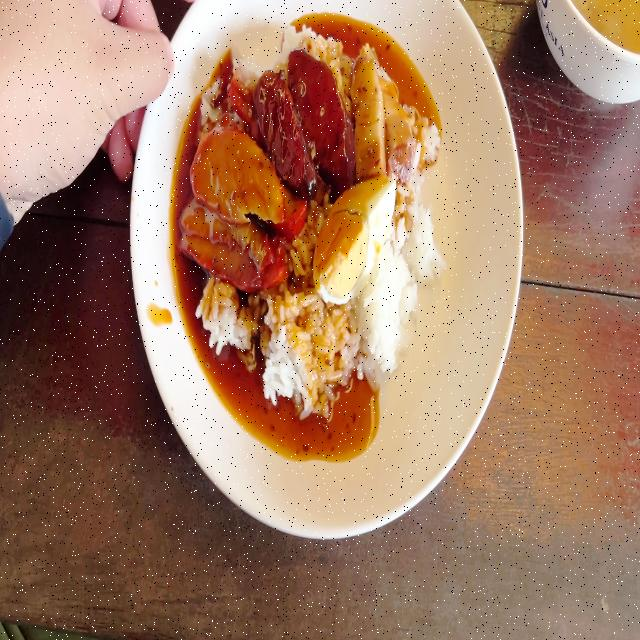boiled_egg: (313, 170, 396, 300)
chainese_sausage: (267, 45, 346, 177)
crispy_pork: (357, 45, 414, 176)
red_pork: (182, 128, 294, 292)
red_pork_and_crispy_pork: (183, 36, 438, 383)
rice: (261, 302, 338, 408), (355, 271, 413, 373), (204, 284, 252, 358)
